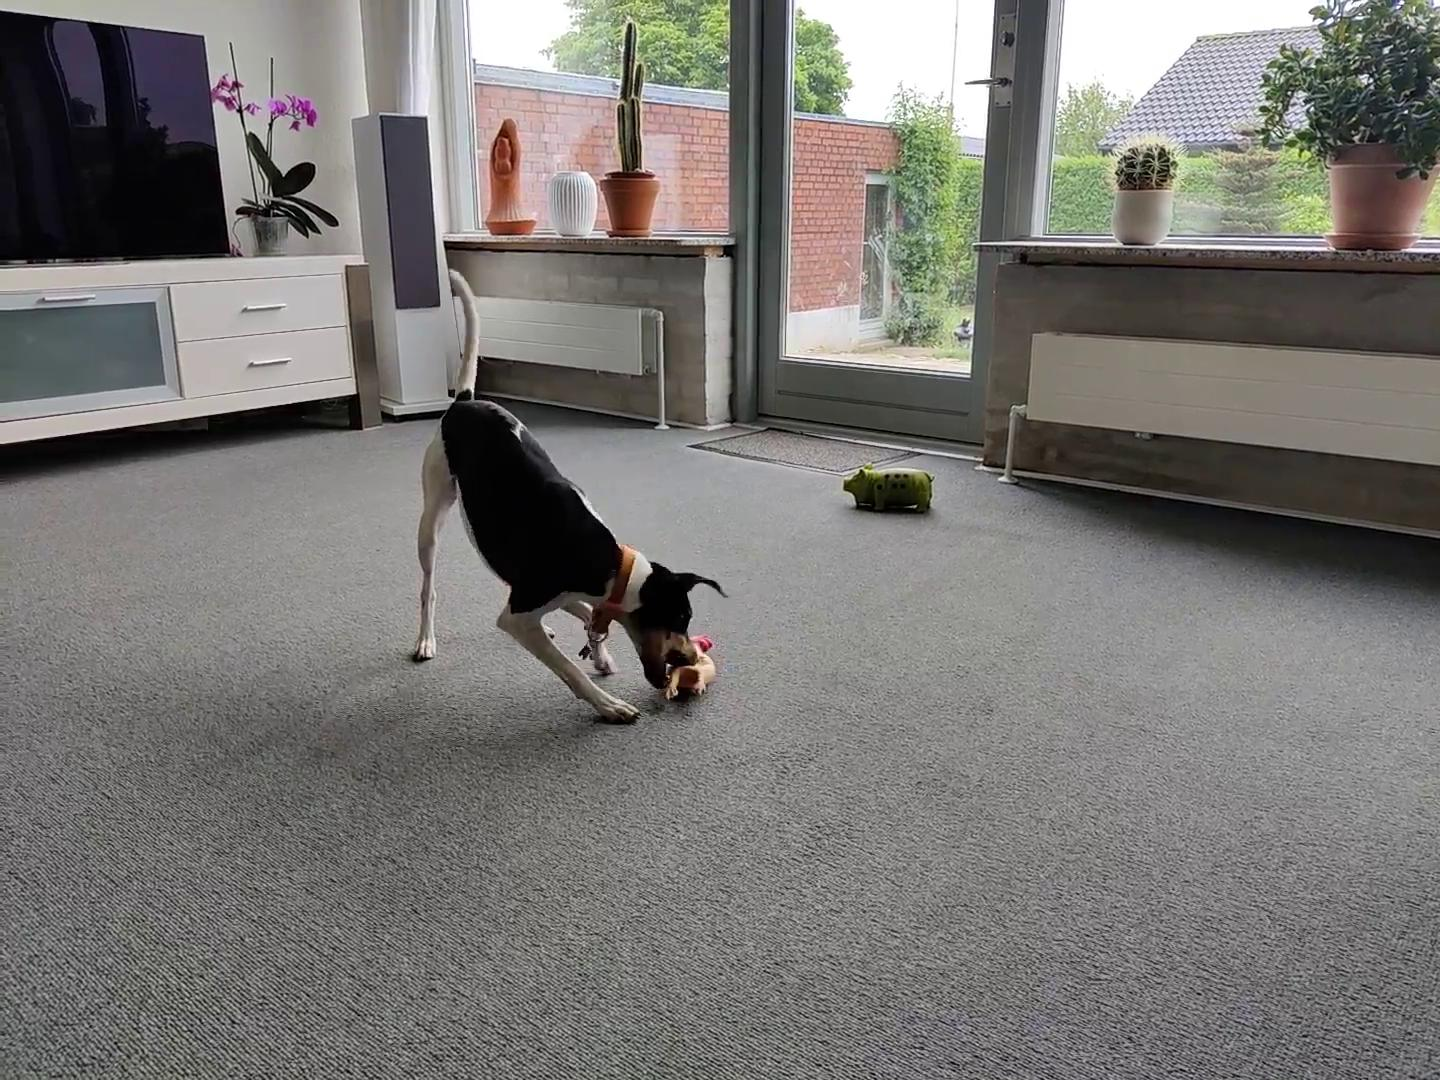Dog: (376, 255, 745, 740)
